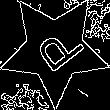P_SW: (25, 19, 84, 80)
